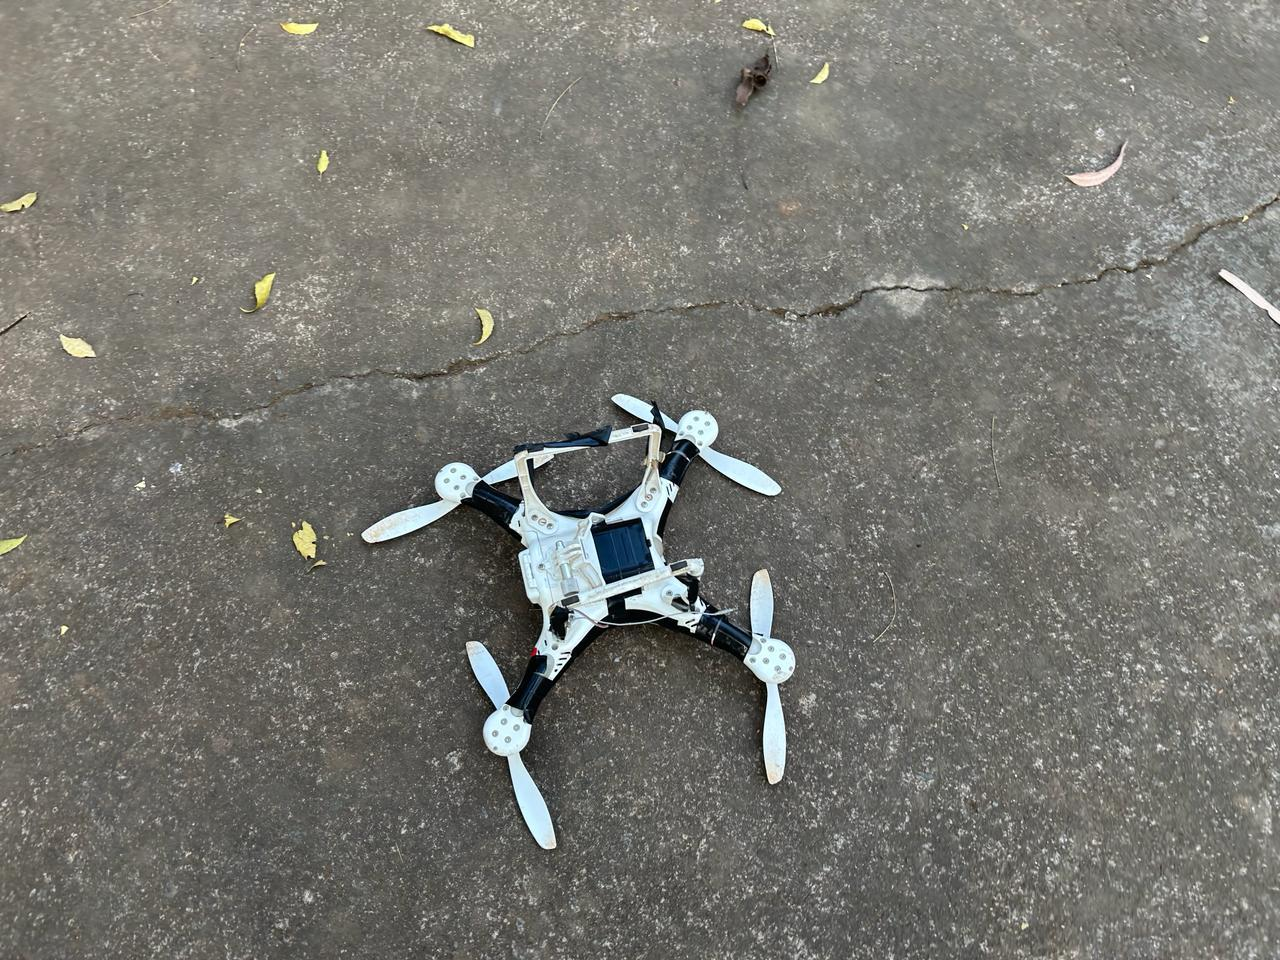drone: (107, 313, 1065, 913)
